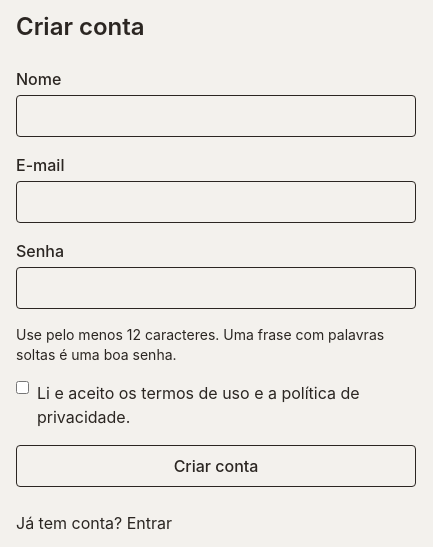
/cadastro (CAD-01) › envia nome, e-mail, senha e aceite para POST /api/cadastro
Type "Ana Souza" into the field labelled "Nome" at (216, 116), box x1=16 y1=95 x2=416 y2=137
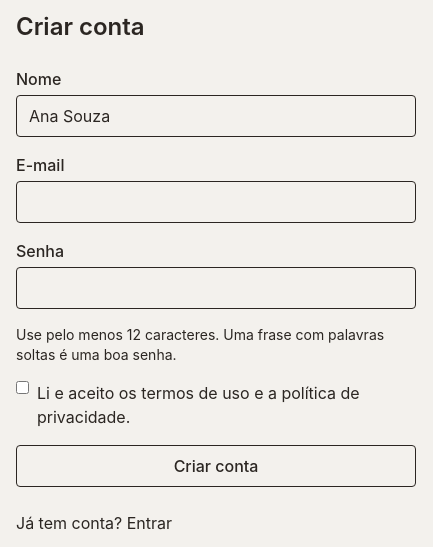
Type "ana@exemplo.com.br" into the field labelled "E-mail" at (216, 202), box x1=16 y1=181 x2=416 y2=223
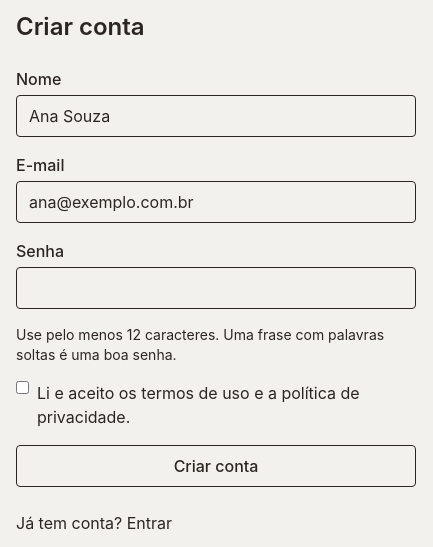
Type "cavalo-bateria-grampo-7" into the password field labelled "Senha" at (216, 288), box x1=16 y1=267 x2=416 y2=309
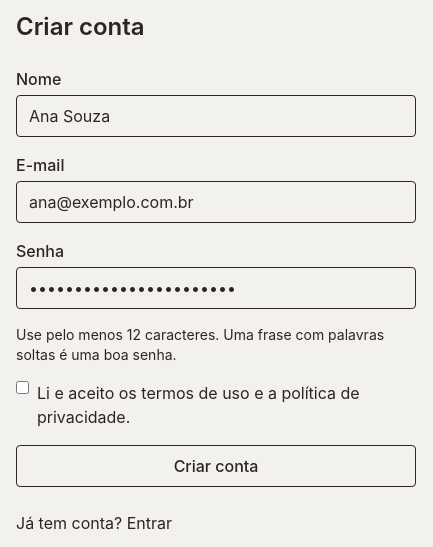
Click the checkbox at (22, 388), box x1=16 y1=381 x2=29 y2=394
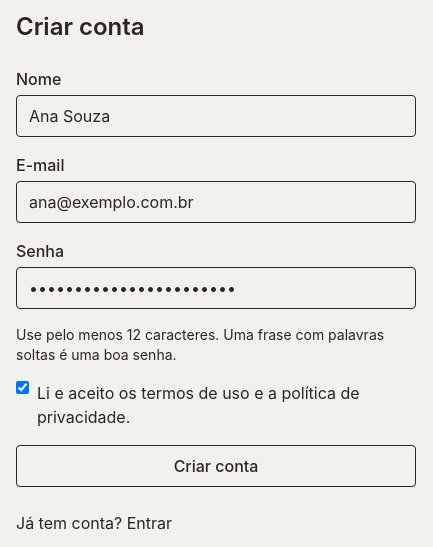
Click the button "Criar conta" at (216, 466), box x1=16 y1=445 x2=416 y2=487
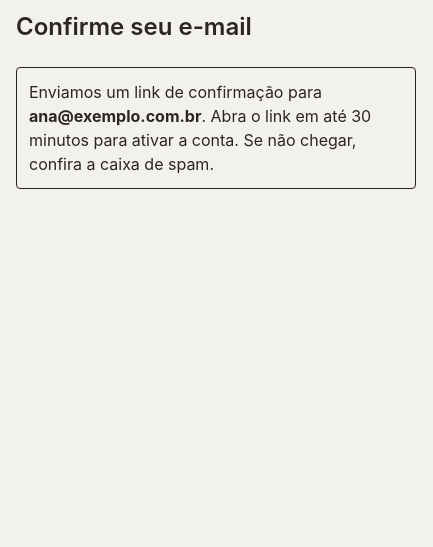
Check: the message is shown, box x1=16 y1=67 x2=416 y2=189
